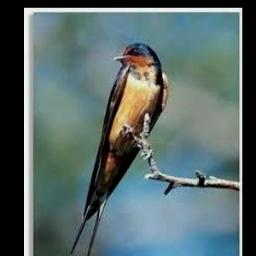Swallow: (70, 42, 169, 256)
